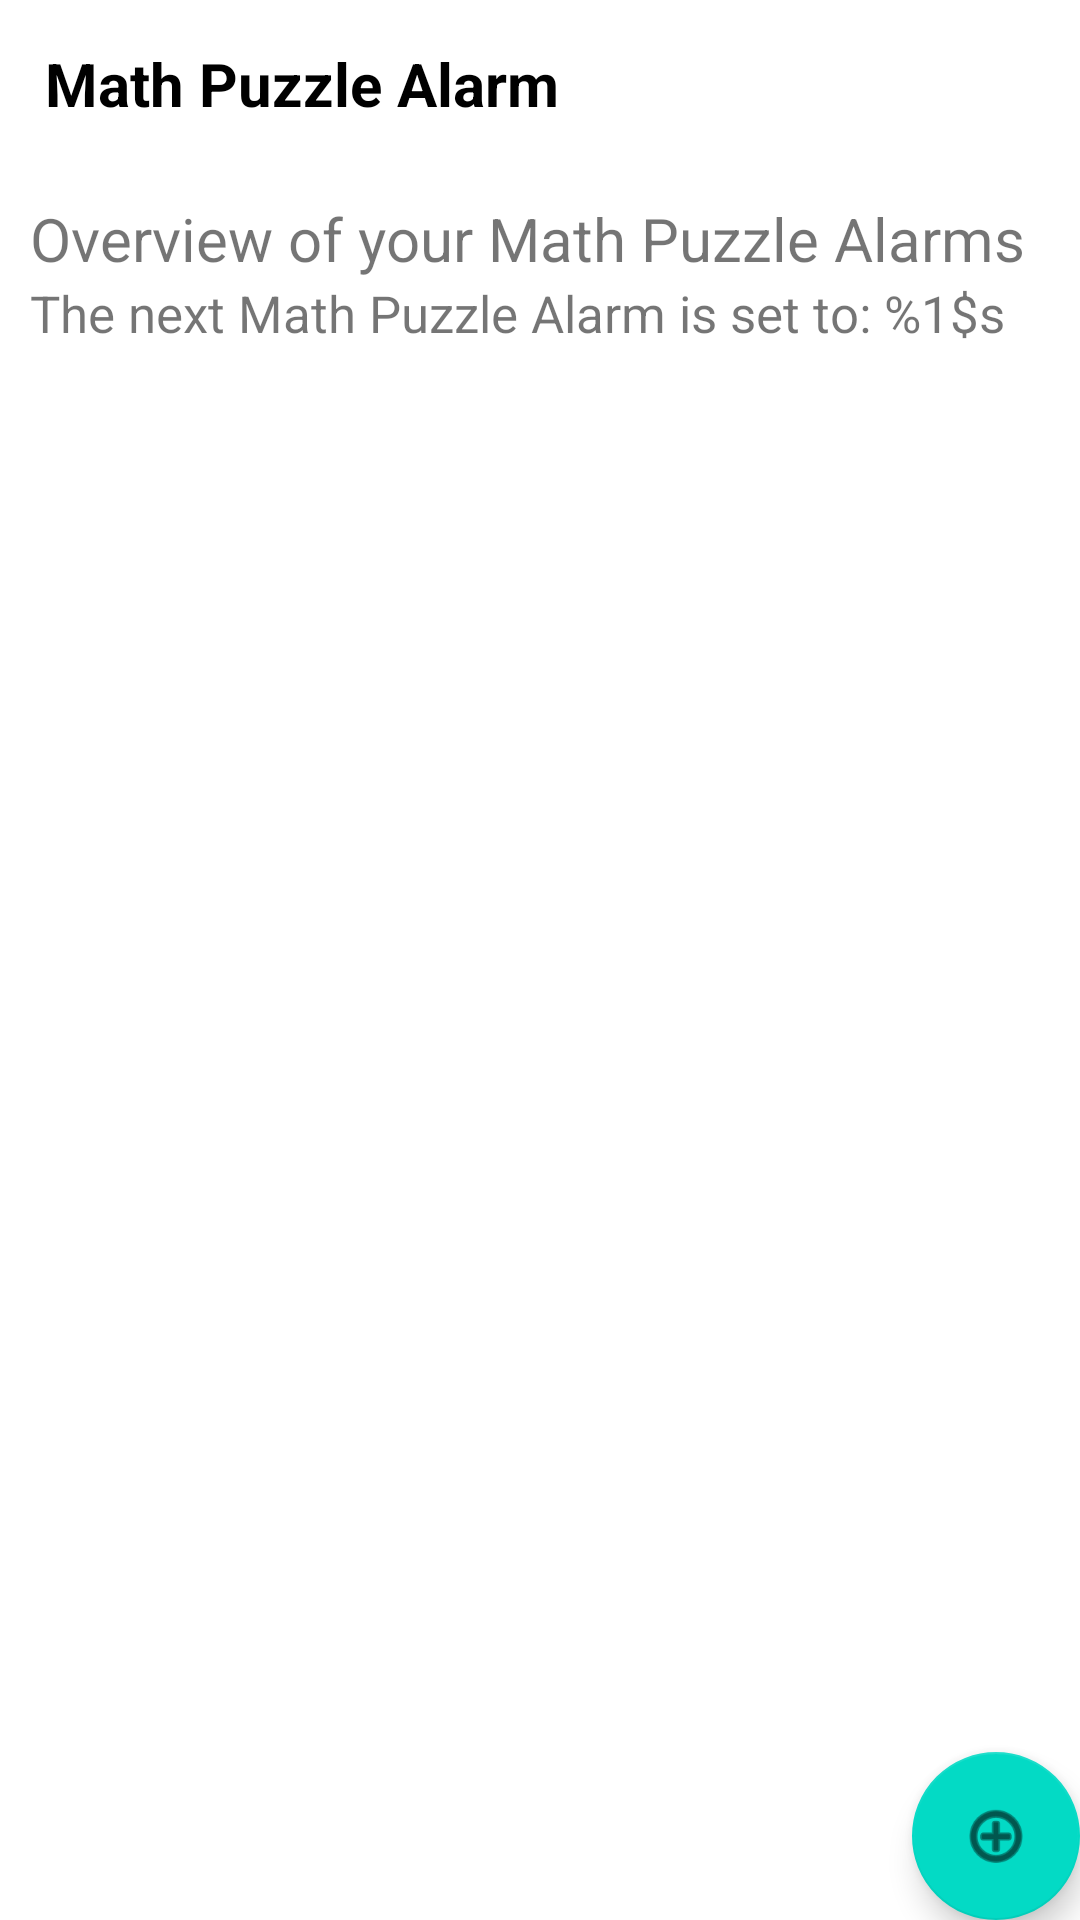

Named icons in this screenshot (1080x1920) and their bounding boxes, rect(x1, y1, x2, y2):
Create a new Math Puzzle Alarm: rect(912, 1752, 1080, 1920)
